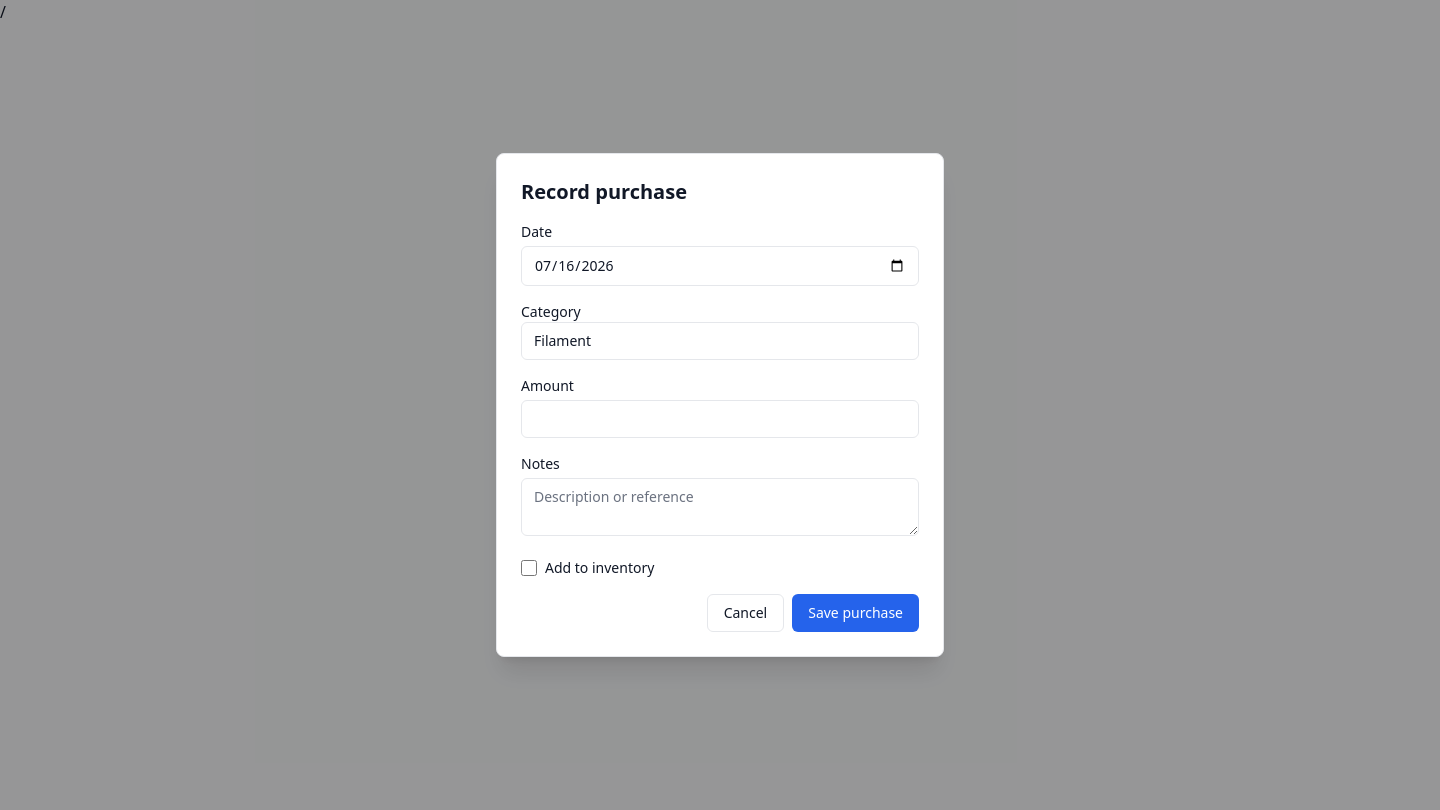
Scenario: CreatePurchaseDialog › overhead purchase › rejects a negative amount inline
The width and height of the screenshot is (1440, 810).
Type "-5" into the number field labelled "Amount" at (720, 419), box [521,400,919,438]
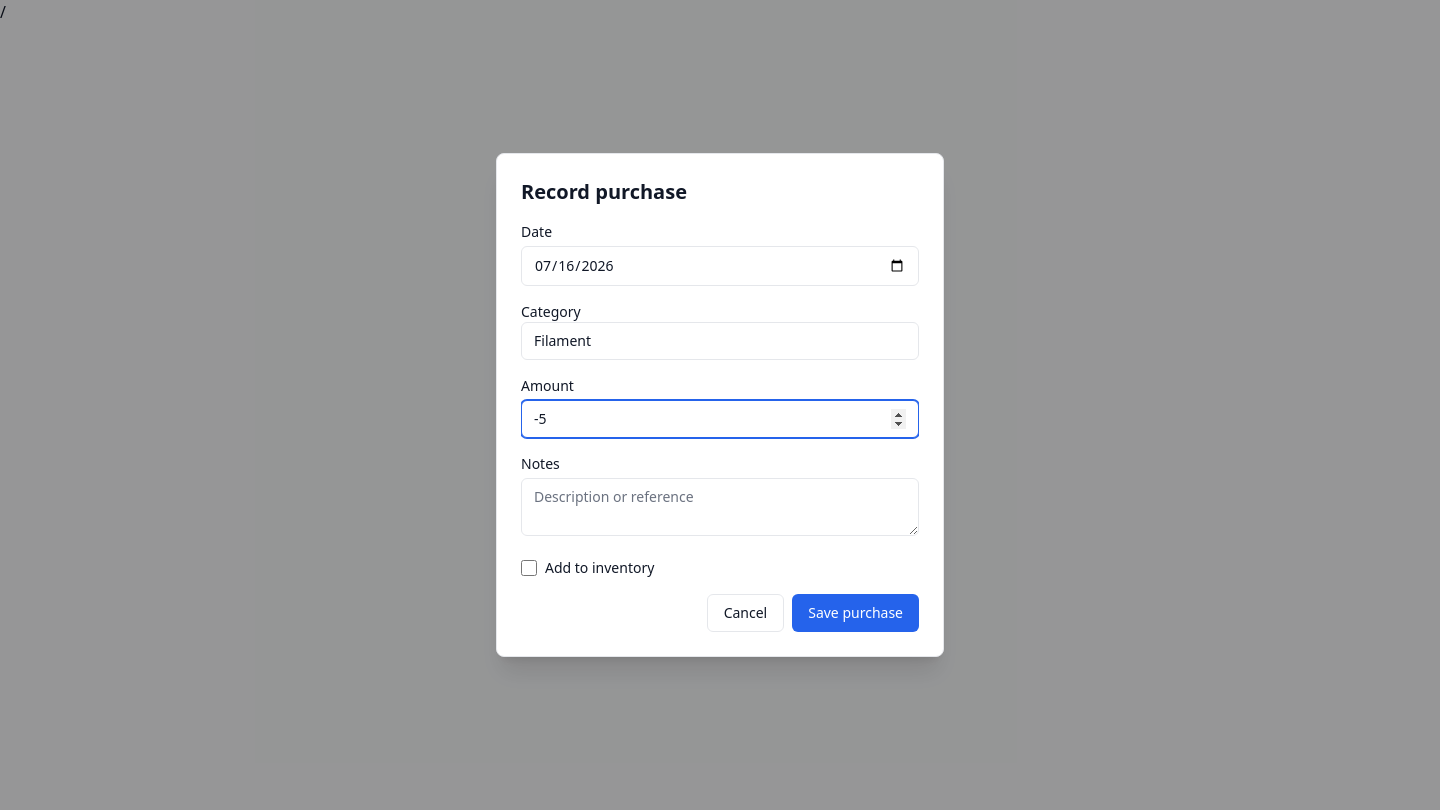
Click the button with test id "purchase-submit" at (856, 613), box [792,594,919,632]
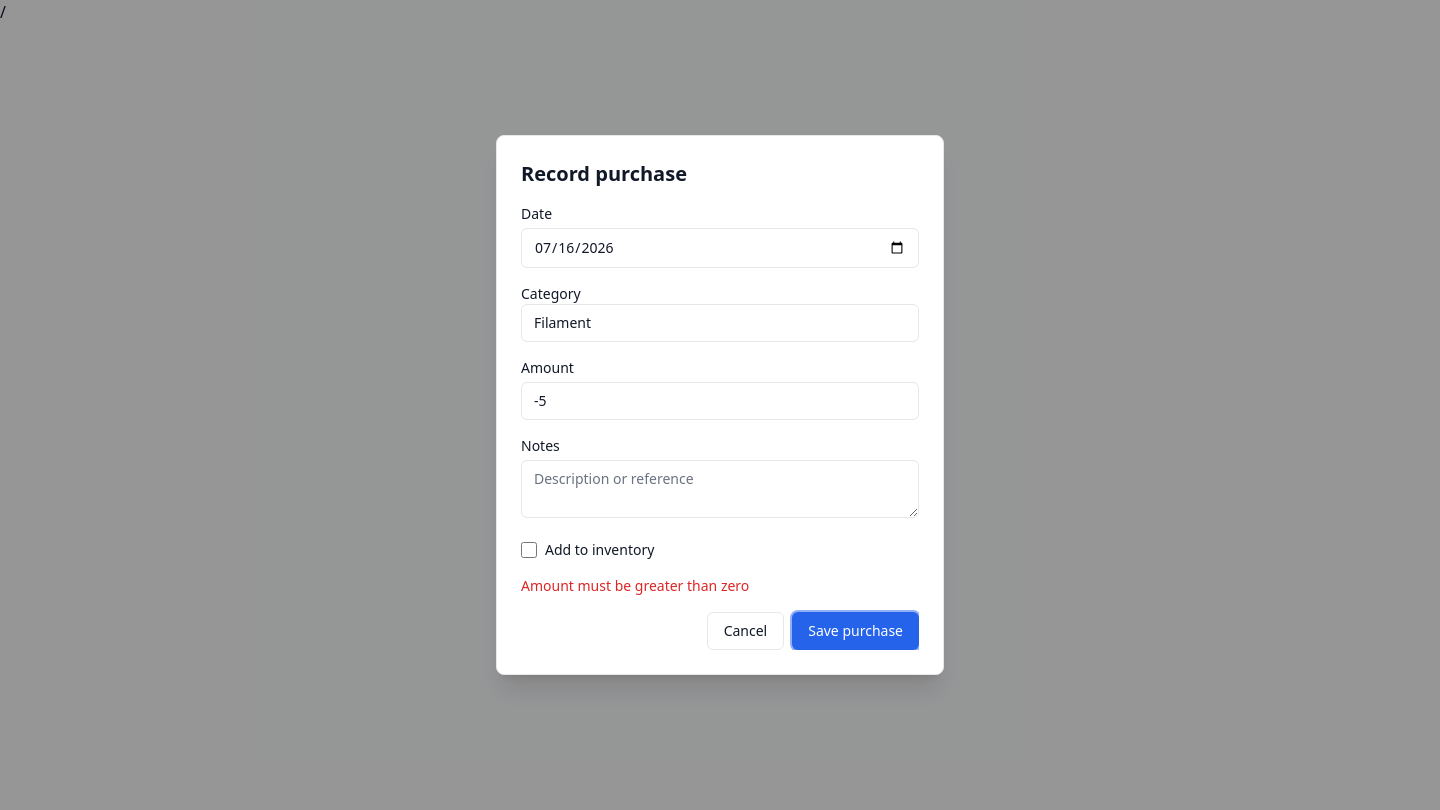
Check: the message reads "Amount must be greater than zero", box [521,576,749,595]
